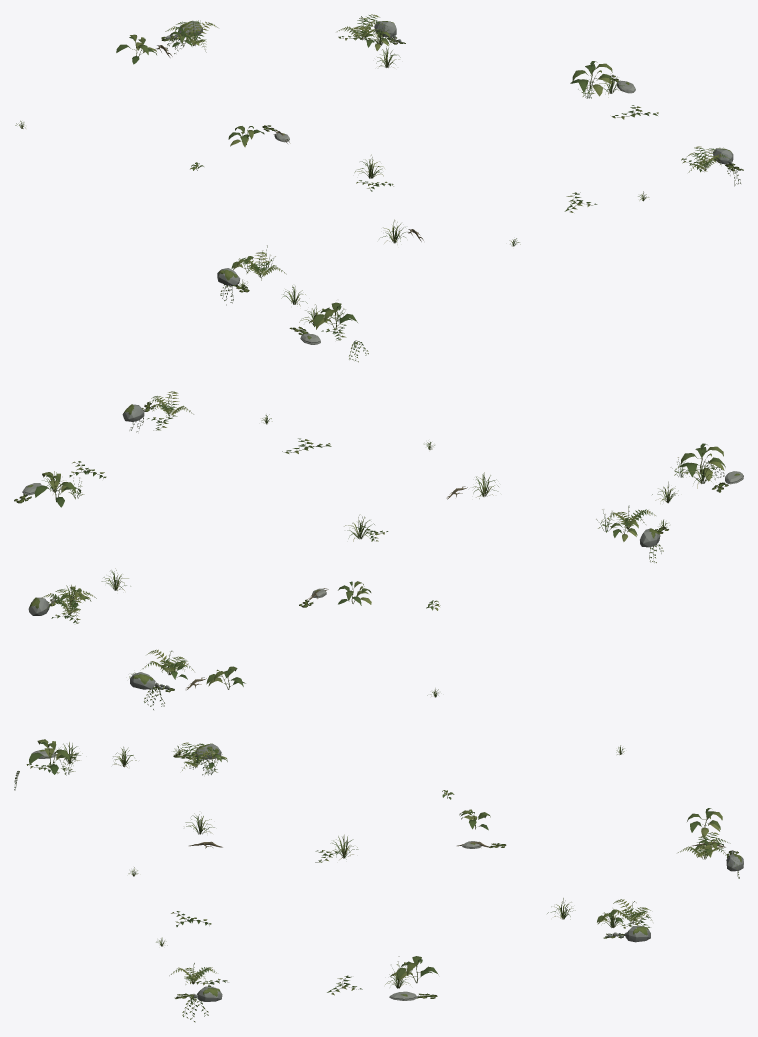
Rendered from dressing.glb.
The picture shows the model from 3 angles, top to bottom: view 1: azimuth 30°, elevation 25°; view 2: azimuth 150°, elevation 25°; view 3: azimuth 270°, elevation 25°; orthographic projection. The views are drawn at different scales.
Parts seen in each view (by area): view 1: stage1_dressing_foliage, stage1_dressing_rocks; view 2: stage1_dressing_foliage, stage1_dressing_rocks; view 3: stage1_dressing_foliage, stage1_dressing_rocks.
Part boxes in pixels (left/top/right/bottom): stage1_dressing_foliage: left=15, top=14, right=743, bottom=362; stage1_dressing_rocks: left=156, top=20, right=733, bottom=344; stage1_dressing_foliage: left=14, top=391, right=728, bottom=709; stage1_dressing_rocks: left=22, top=404, right=743, bottom=690; stage1_dressing_foliage: left=14, top=739, right=739, bottom=1022; stage1_dressing_rocks: left=32, top=743, right=743, bottom=1001.
Size of the model in its own units: 8.28 by 0.771 by 10.21.
